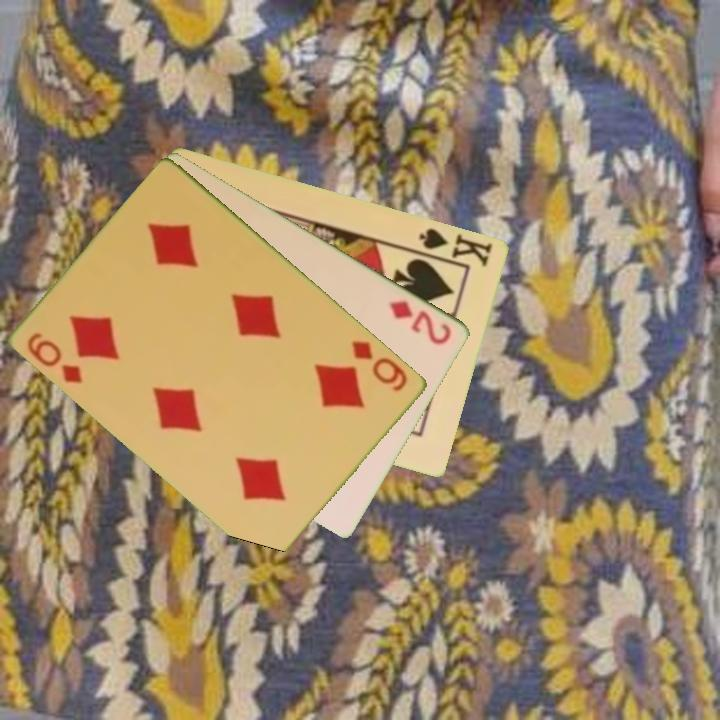2d: (386, 296, 455, 348)
6d: (348, 336, 411, 395), (24, 329, 87, 387)
Ks: (416, 224, 496, 270)
